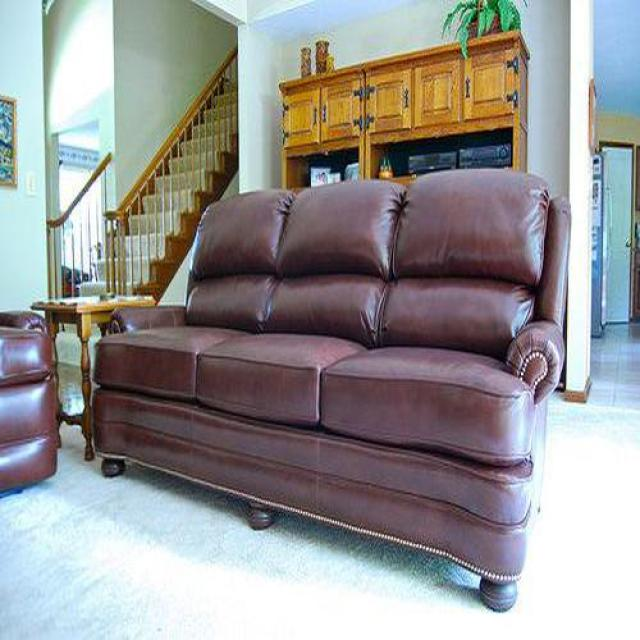sofa: (88, 170, 563, 612)
